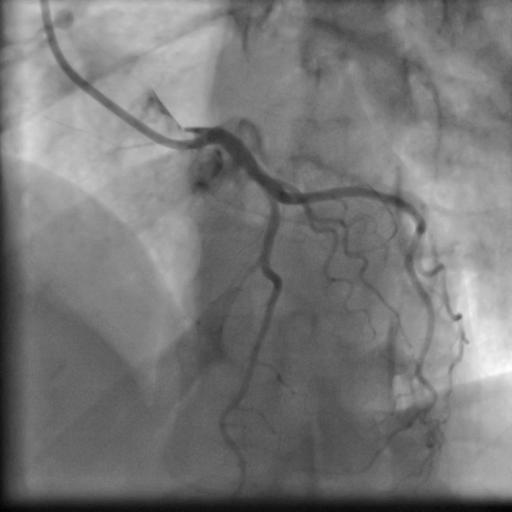Stenosis: (264, 188, 281, 226)
